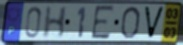0: (24, 6, 43, 40)
1: (77, 6, 87, 39)
E: (90, 4, 116, 41)
H: (42, 5, 70, 39)
O: (119, 5, 142, 40)
V: (142, 6, 166, 41)
